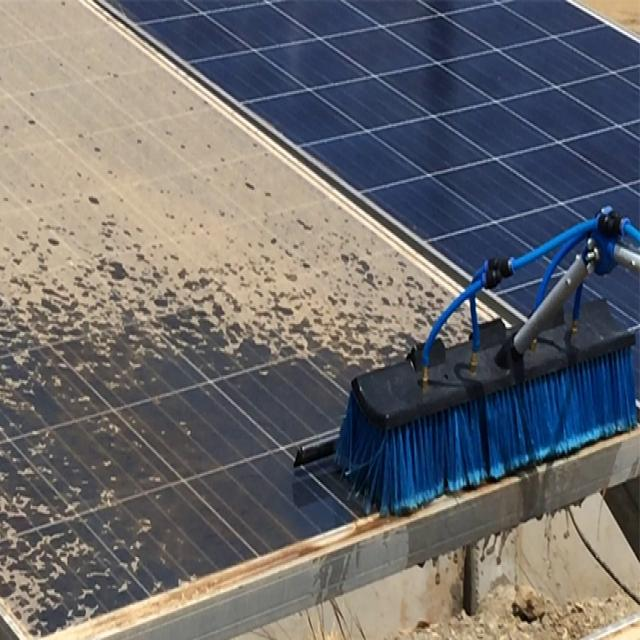faulty: (0, 0, 497, 622)
no faulty: (109, 0, 640, 271)
